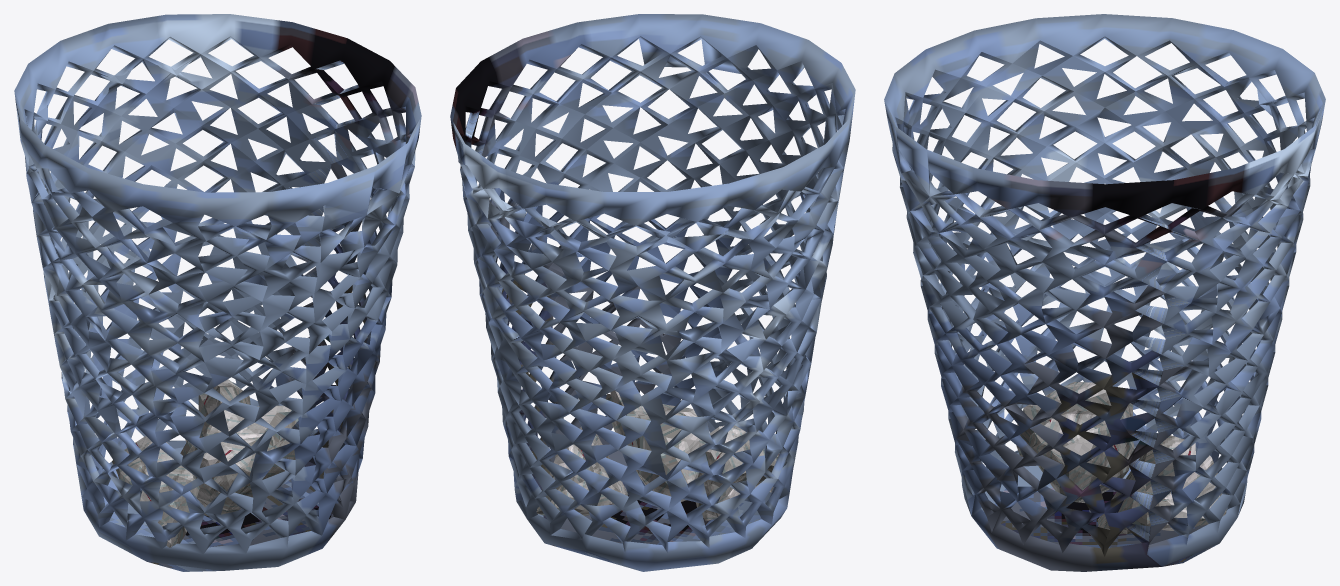
Rendered from Cestino.fbx.
3 views of the same model, side by side, from view 1: azimuth 30°, elevation 25°; view 2: azimuth 150°, elevation 25°; view 3: azimuth 270°, elevation 25° (orthographic).
Visible parts, largest first — view 1: cestino, Icosphere.003, Icosphere.004, Icosphere.006; view 2: cestino, Icosphere.003, Icosphere.004, Icosphere.006; view 3: cestino, Icosphere.003, Icosphere.006, Icosphere.004.
Part boxes in pixels (left/top/right/bottom): cestino: left=14, top=14, right=421, bottom=571; Icosphere.003: left=180, top=405, right=298, bottom=516; Icosphere.004: left=112, top=436, right=199, bottom=547; Icosphere.006: left=185, top=379, right=250, bottom=442; cestino: left=450, top=14, right=855, bottom=571; Icosphere.003: left=605, top=390, right=707, bottom=501; Icosphere.004: left=695, top=425, right=779, bottom=521; Icosphere.006: left=536, top=427, right=627, bottom=515; cestino: left=884, top=14, right=1325, bottom=571; Icosphere.003: left=1028, top=410, right=1134, bottom=502; Icosphere.006: left=1097, top=435, right=1226, bottom=534; Icosphere.004: left=1016, top=381, right=1133, bottom=456.
Size of the model in its own units: 0.4767 by 0.5582 by 0.5227.
Materials: 2 (2 with a texture image).
